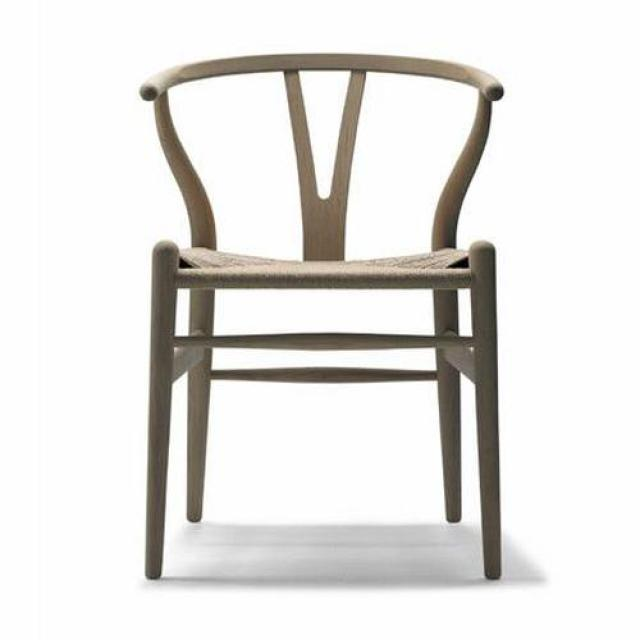chair: (138, 51, 506, 590)
